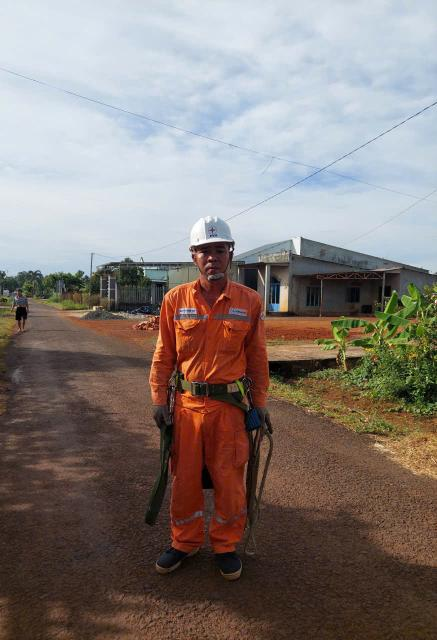gloves: (144, 395, 188, 436), (250, 402, 281, 438)
harness: (153, 362, 274, 408)
helmet: (174, 204, 243, 258)
shoes: (147, 530, 206, 578), (202, 542, 253, 583)
